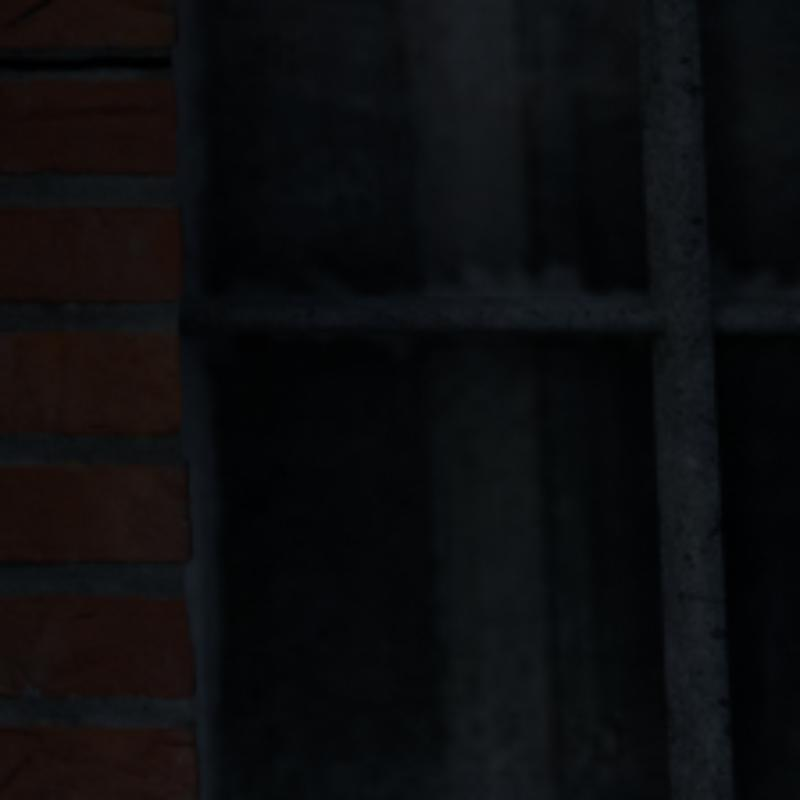pothole: (0, 57, 168, 68)
